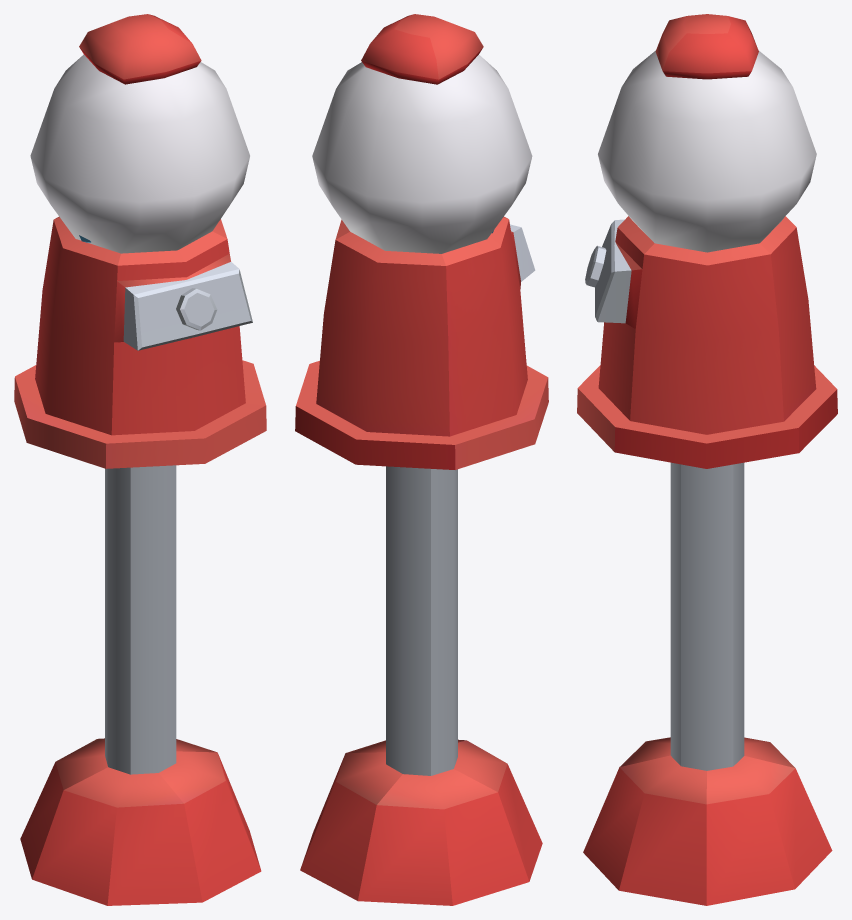
The model's file is GumballMachine_Mesh.fbx.
3 views of the same model, side by side, from view 1: azimuth 30°, elevation 25°; view 2: azimuth 150°, elevation 25°; view 3: azimuth 270°, elevation 25° (orthographic).
Visible parts, largest first — view 1: GumballMachine_Mesh; view 2: GumballMachine_Mesh; view 3: GumballMachine_Mesh.
Boxes of the visible parts, <box> form: GumballMachine_Mesh: <box>14,14,266,905</box>; GumballMachine_Mesh: <box>295,14,548,905</box>; GumballMachine_Mesh: <box>577,14,837,905</box>.
Bounding box in the file's own units: 32.19 × 113 × 32.19.
Materials: 1 (1 with a texture image).
